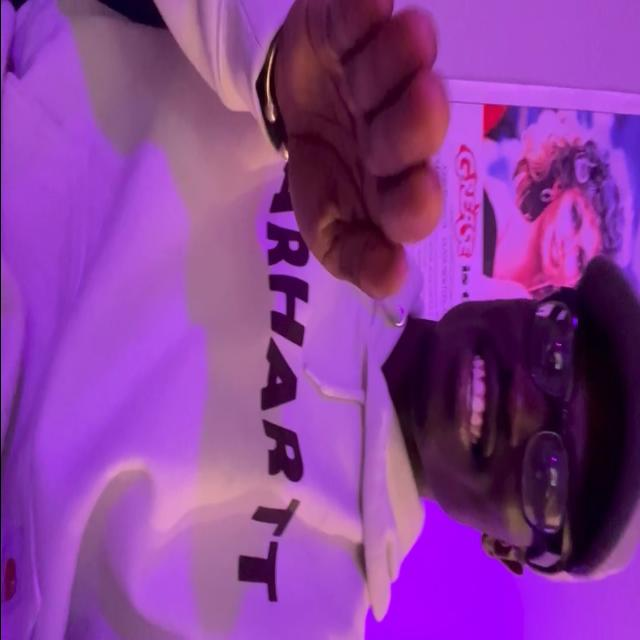Paper: (274, 0, 450, 304)
